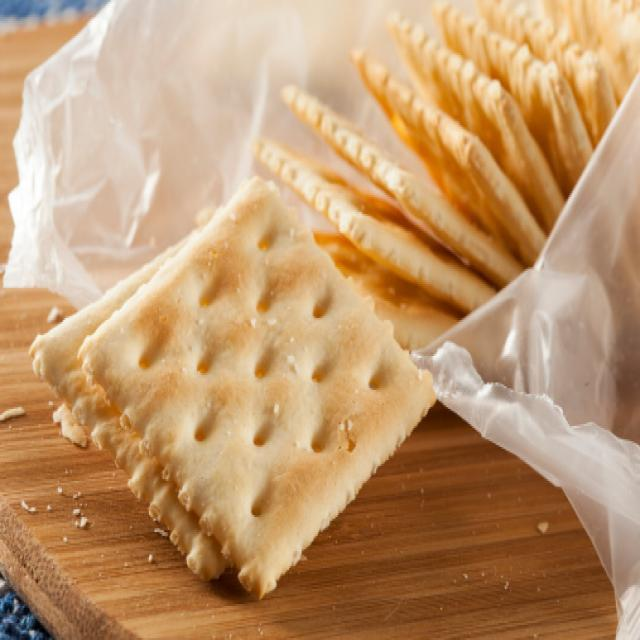Cracker: (100, 174, 442, 594)
